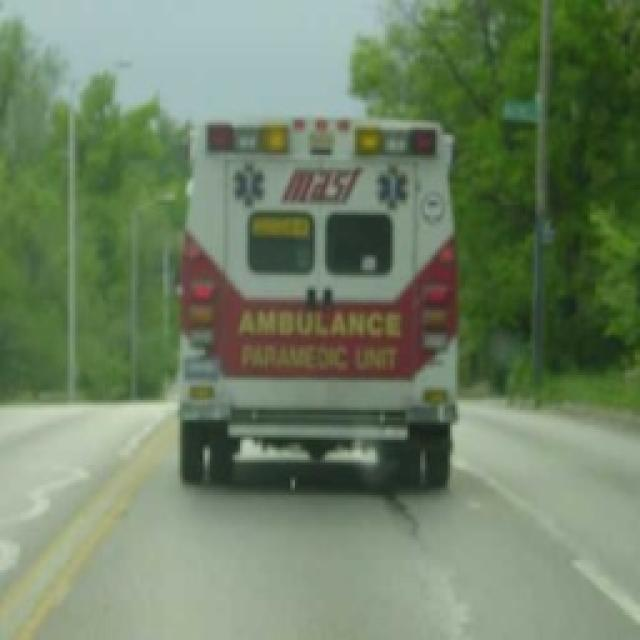emergency-vehicle: (121, 91, 594, 475)
